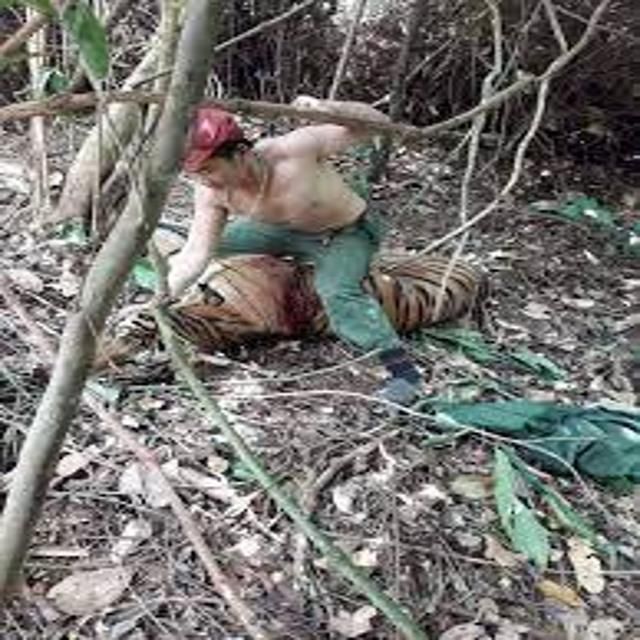Tiger: (65, 252, 541, 362)
